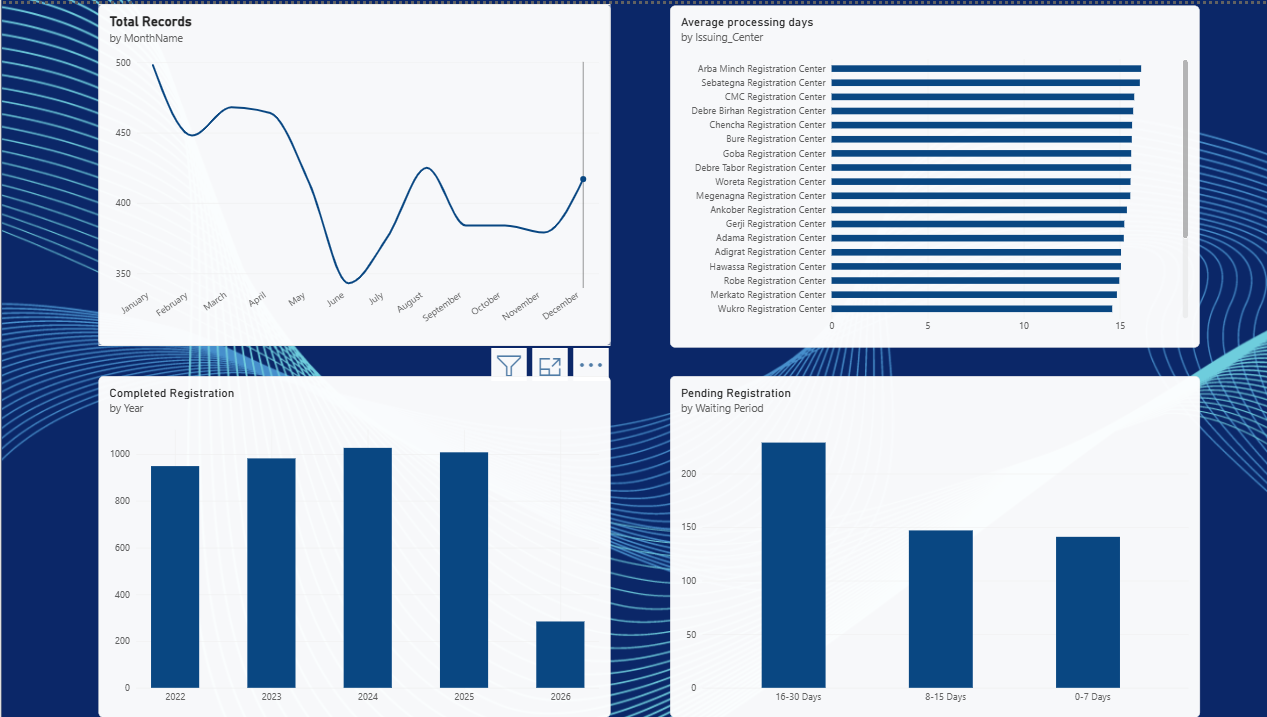

Layout of this report page (visuals, bound fields, positions):
{"tool":"powerbi","page":{"name":"Processing an Isuuance Analysis","canvas":[1920,1080],"ordinal":4},"visuals":[{"type":"lineChart","fields":{"Category":["DateTable.MonthName"],"Y":["Dataset_5000.Total Records"]},"box":[147.5,0,775,517.5],"z":0},{"type":"clusteredBarChart","fields":{"Category":["Dataset_5000.Issuing_Center"],"Y":["Dataset_5000.Average processing days"]},"box":[1013,2.3,801.8,517.9],"z":1000},{"type":"clusteredColumnChart","fields":{"Category":["DateTable.Year"],"Y":["Dataset_5000.Completed Registration"]},"box":[147.5,562.5,775,517.5],"z":2000},{"type":"clusteredColumnChart","fields":{"Category":["Dataset_5000.Waiting Period"],"Y":["Dataset_5000.Pending Registration"]},"box":[1012.5,562.5,802.5,517.5],"z":3000}]}

Visuals, with their boxes in screenshot pixels (x1, y1, x2, y2), scaled from the page's 1920x1080 canvas onto the 1267x717 screenshot:
lineChart - DateTable.MonthName x Dataset_5000.Total Records: 97 0 609 344
clusteredBarChart - Dataset_5000.Issuing_Center x Dataset_5000.Average processing days: 668 2 1198 345
clusteredColumnChart - DateTable.Year x Dataset_5000.Completed Registration: 97 373 609 716
clusteredColumnChart - Dataset_5000.Waiting Period x Dataset_5000.Pending Registration: 668 373 1198 716
